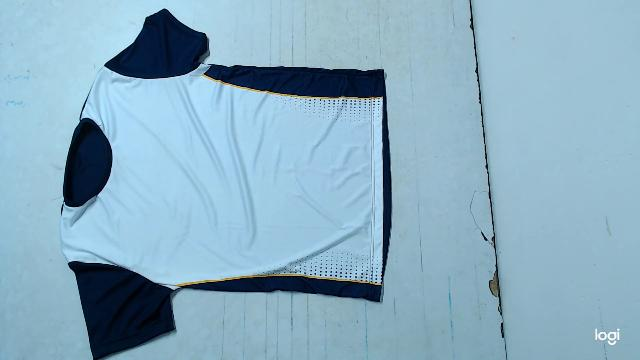new-garment: (59, 9, 391, 358)
